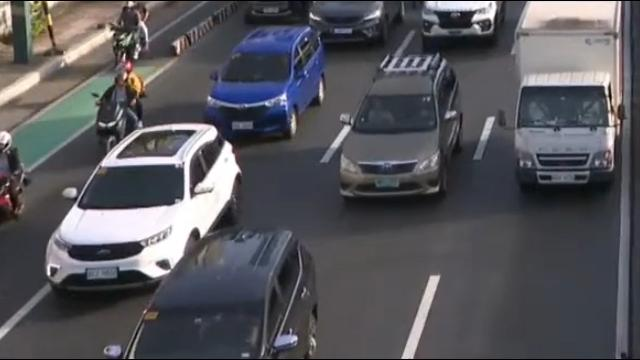car: (45, 123, 242, 301), (104, 229, 319, 360), (334, 58, 465, 200), (205, 27, 328, 138), (305, 0, 408, 46), (419, 0, 507, 43)
motorcycle: (92, 62, 147, 162), (104, 0, 151, 76), (0, 128, 28, 222)
truck: (509, 0, 632, 197)
